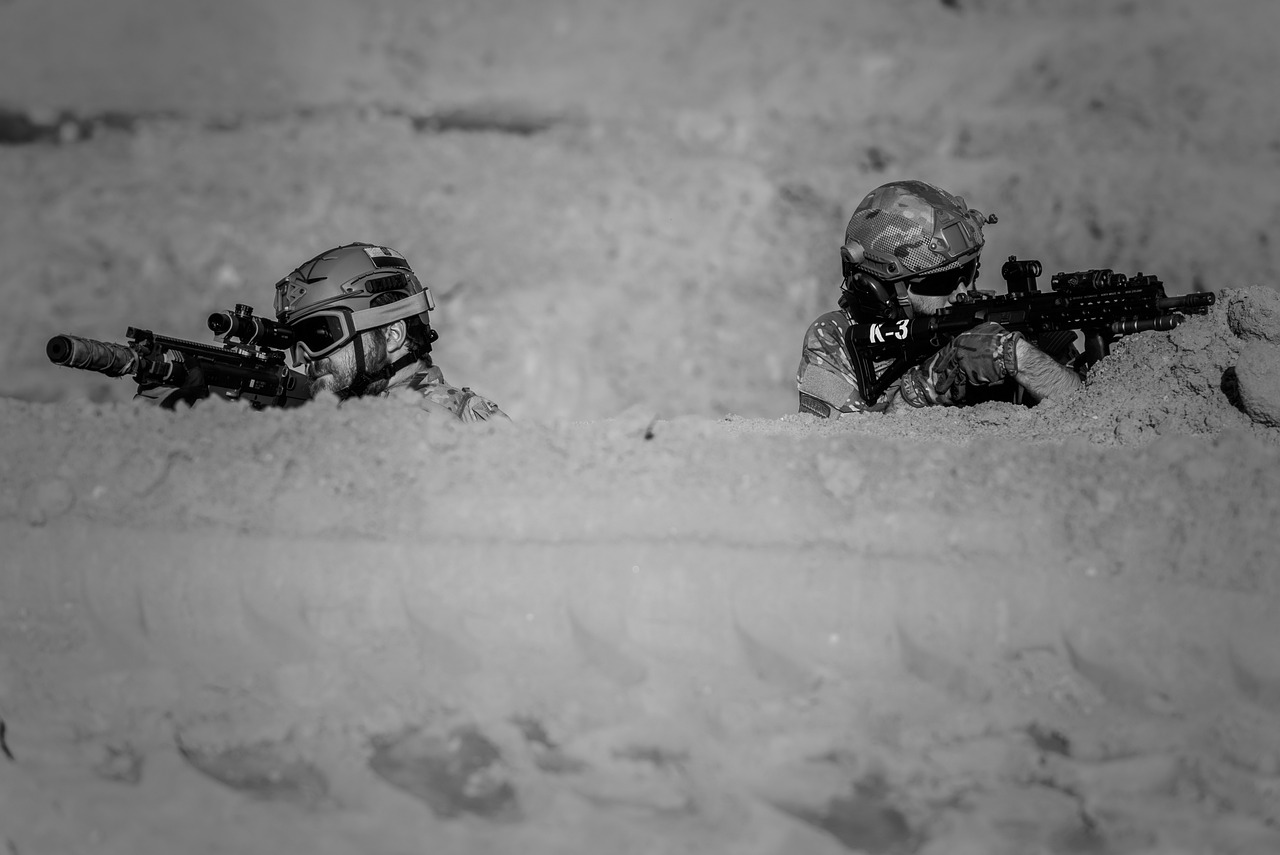gun: (839, 250, 1219, 410), (42, 297, 325, 412)
